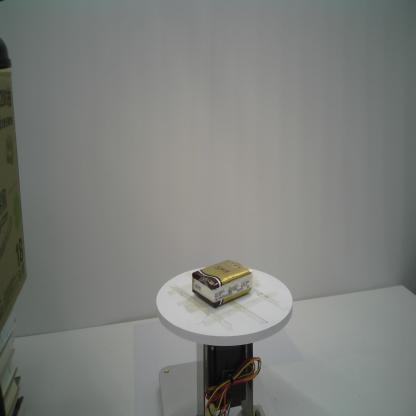Tissue: (192, 259, 253, 308)
